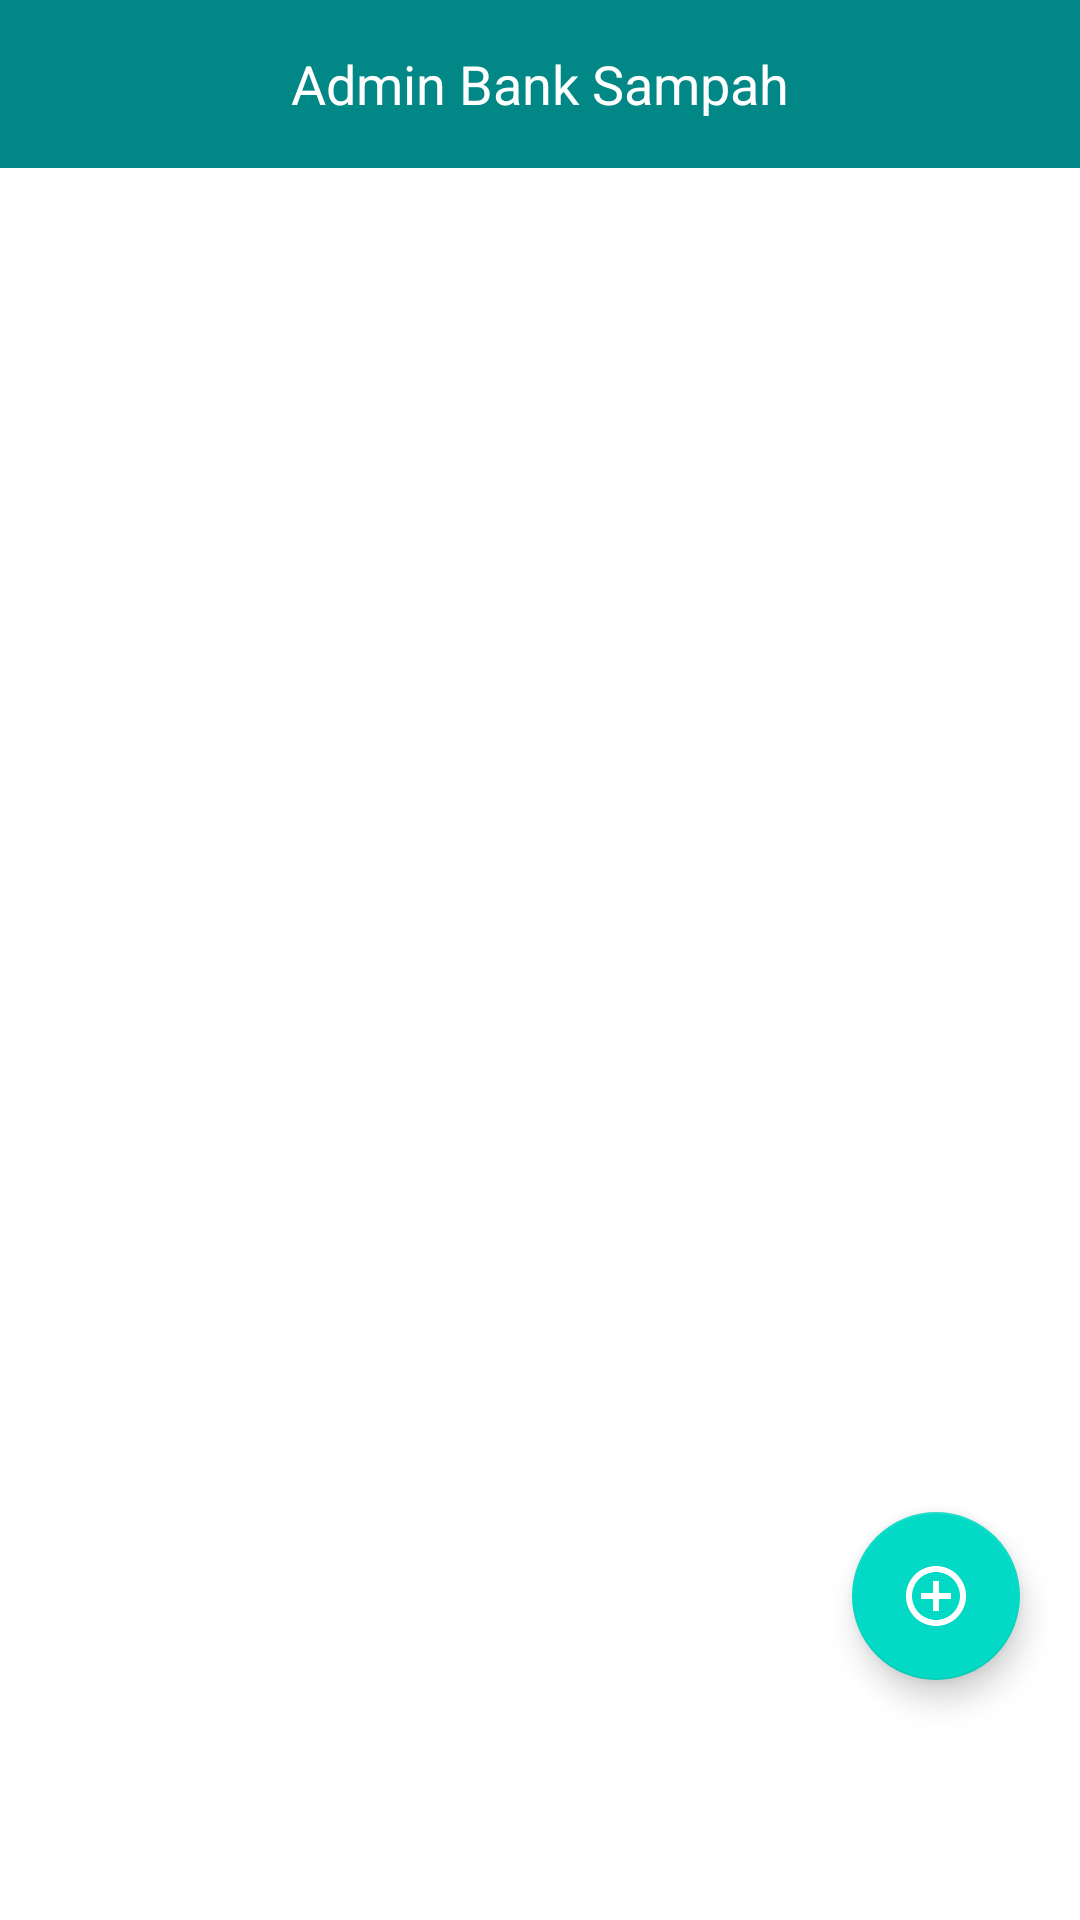

Point at icon controls on the screen. Image size 1080px×1920px, points as point (x, y).
add: point (936, 1596)
